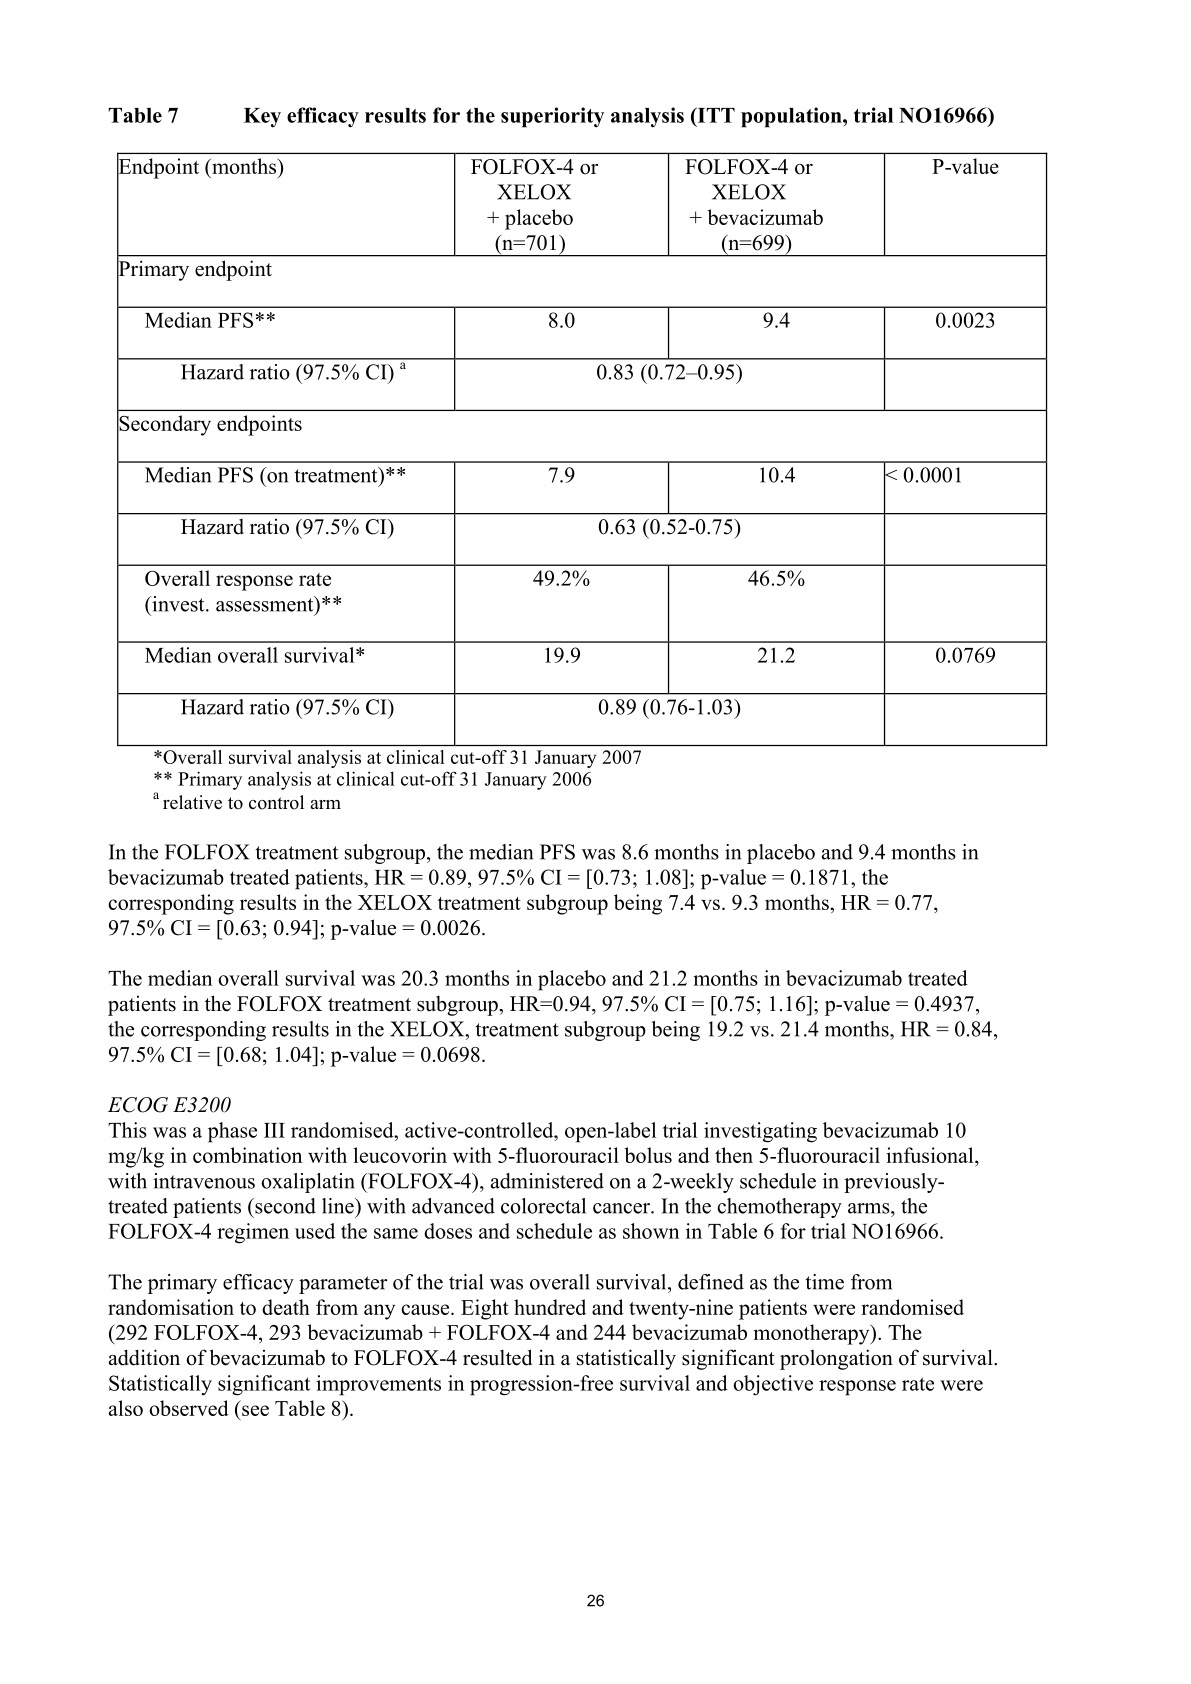merged_cells: (115, 151, 1048, 746)
